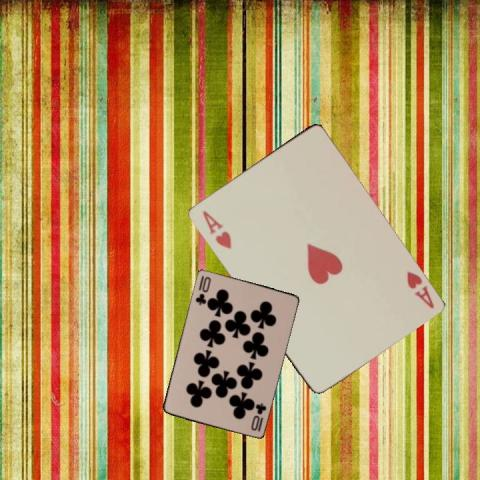10c: (192, 273, 212, 306), (248, 399, 267, 433)
Ah: (198, 207, 232, 251), (404, 268, 436, 311)
